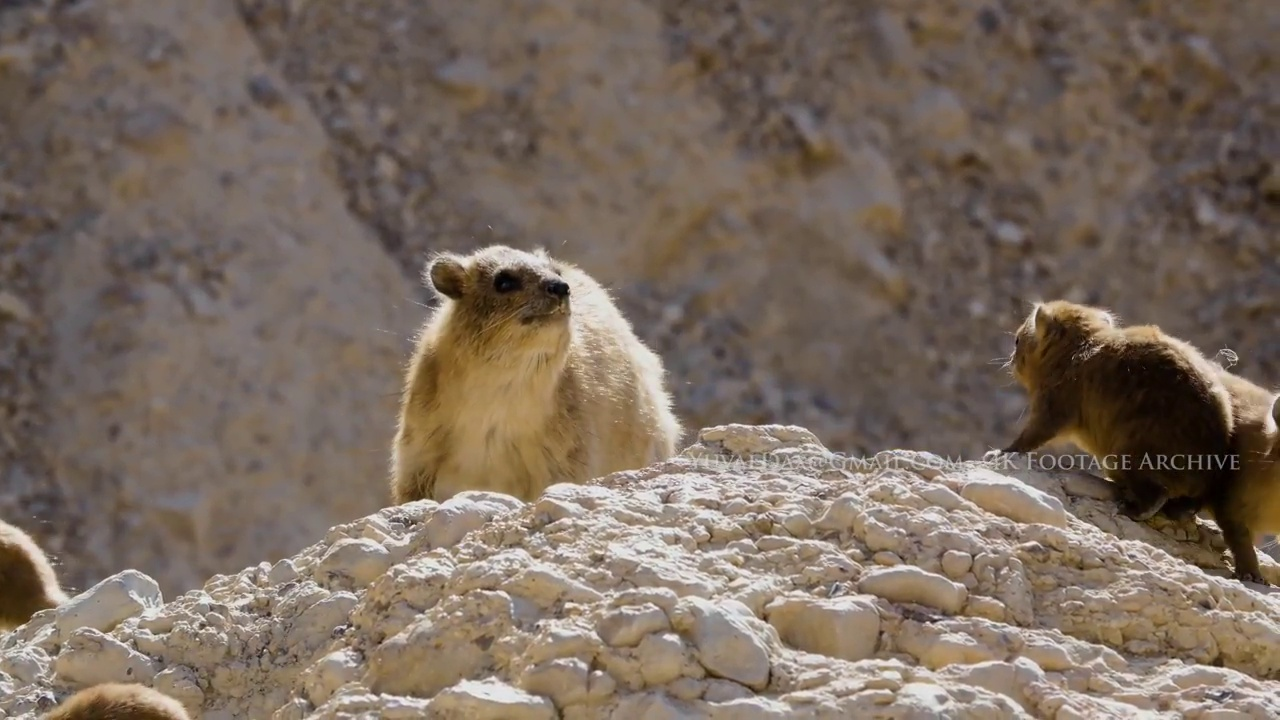Rock Hyrex: (985, 300, 1271, 591), (386, 245, 685, 513), (1171, 359, 1280, 547), (1, 522, 53, 619)
